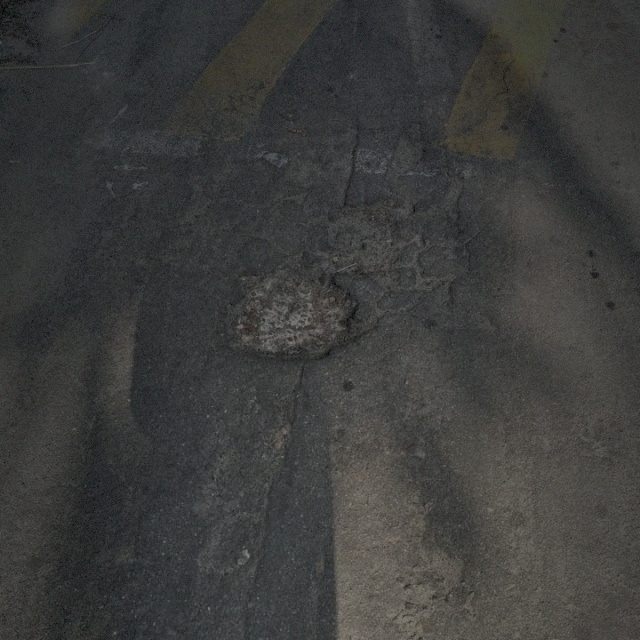pothole: (218, 262, 362, 364), (319, 197, 411, 276)
